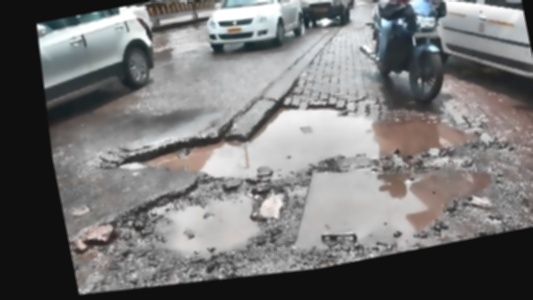pothole: (99, 48, 479, 219), (276, 130, 507, 271), (124, 160, 280, 275)
